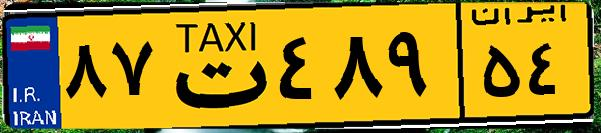4: (270, 28, 330, 110), (525, 38, 570, 115)
5: (475, 38, 525, 113)
7: (110, 28, 158, 98)
8: (330, 28, 385, 110), (57, 26, 110, 100)
9: (385, 28, 445, 110)
ت: (158, 12, 270, 120)
